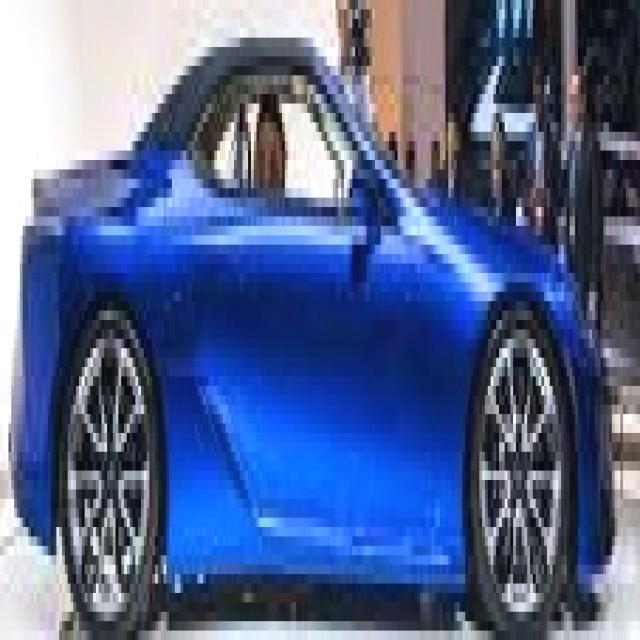blue: (16, 22, 613, 623)
